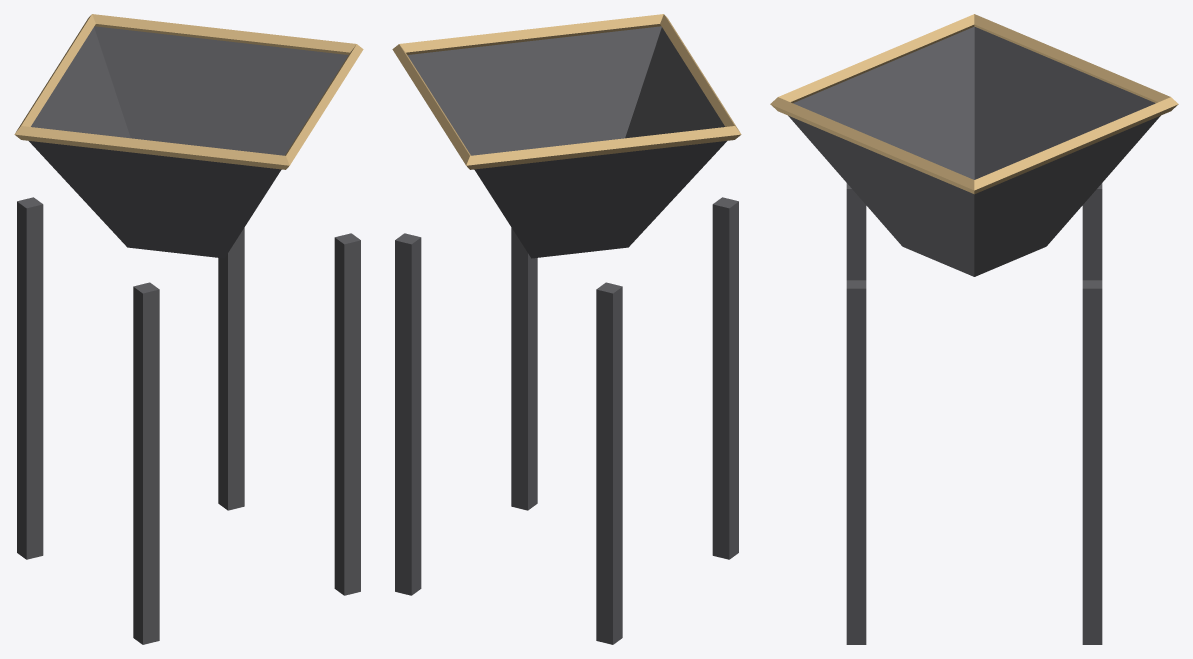
Rendered from Hopper.fbx.
3 views of the same model, side by side, from view 1: azimuth 30°, elevation 25°; view 2: azimuth 150°, elevation 25°; view 3: azimuth 270°, elevation 25° (orthographic).
Parts seen in each view (by area): view 1: Hopper; view 2: Hopper; view 3: Hopper.
Part boxes in pixels (x1,y1,x2,y2): Hopper: (14,14,363,644); Hopper: (392,14,741,644); Hopper: (770,14,1178,644).
Bounding box in the file's own units: 3.12 × 4.16 × 3.12.
